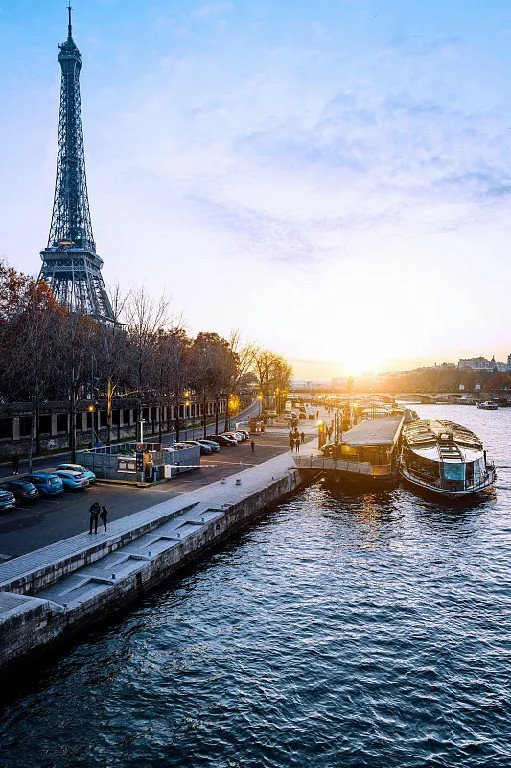Eiffel: (30, 1, 122, 333)
